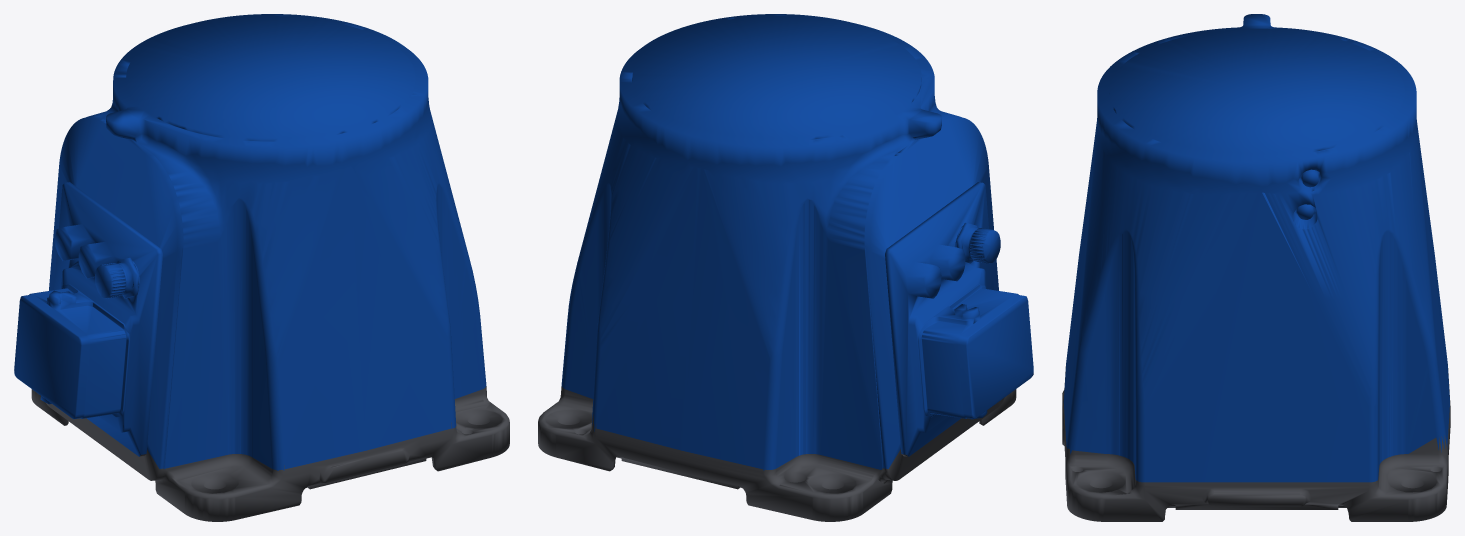
File: YaskawaGP7Link0.dae
3 views of the same model, side by side, from view 1: azimuth 30°, elevation 25°; view 2: azimuth 150°, elevation 25°; view 3: azimuth 270°, elevation 25° (orthographic). The views are drawn at different scales.
Visible parts, largest first — view 1: YaskawaGP7Link0; view 2: YaskawaGP7Link0; view 3: YaskawaGP7Link0.
Boxes of the visible parts, left/top/right/bottom form: YaskawaGP7Link0: left=14, top=14, right=509, bottom=521; YaskawaGP7Link0: left=538, top=14, right=1033, bottom=521; YaskawaGP7Link0: left=1062, top=14, right=1450, bottom=521.
Size of the model in its own units: 0.2373 by 0.1995 by 0.1991.
